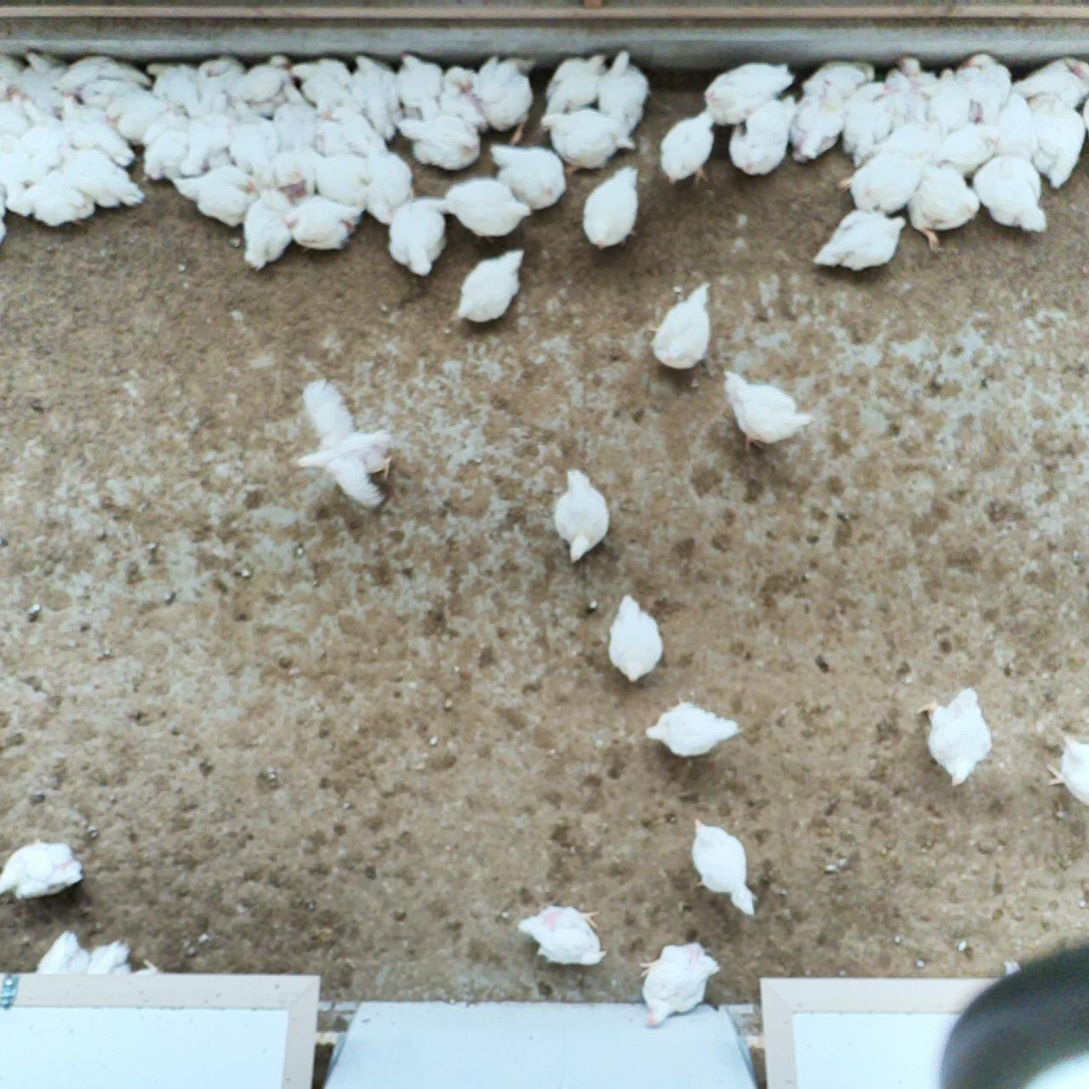chicken: (292, 378, 393, 512), (915, 687, 993, 786), (721, 370, 814, 451), (637, 942, 721, 1028), (688, 816, 759, 916), (465, 53, 540, 147), (908, 163, 983, 255), (435, 176, 533, 244), (703, 59, 799, 127), (31, 930, 170, 975), (54, 93, 138, 166), (810, 208, 907, 271), (542, 108, 634, 174), (1026, 90, 1087, 189), (62, 146, 148, 216), (730, 92, 798, 178), (650, 281, 715, 370), (552, 469, 611, 566), (451, 248, 525, 325), (487, 141, 568, 211), (176, 167, 267, 229), (514, 905, 608, 965), (977, 160, 1051, 235), (350, 53, 409, 146), (836, 152, 929, 211), (788, 81, 851, 168), (392, 111, 483, 171), (645, 700, 740, 757), (239, 184, 299, 270), (434, 60, 500, 138), (582, 168, 643, 252), (932, 118, 1008, 185), (0, 840, 87, 898), (539, 50, 613, 118), (284, 192, 363, 255), (52, 49, 155, 97), (989, 90, 1049, 172), (956, 49, 1013, 135), (9, 178, 101, 231), (313, 103, 394, 163), (232, 52, 309, 115), (134, 116, 205, 184), (285, 55, 362, 117), (184, 88, 237, 178), (227, 94, 283, 178), (386, 199, 448, 274), (599, 49, 653, 135), (611, 595, 663, 682), (17, 94, 69, 178), (799, 56, 878, 111), (657, 112, 717, 184), (840, 83, 891, 167), (185, 56, 251, 120), (367, 148, 419, 229), (886, 56, 938, 137), (103, 92, 187, 141), (310, 150, 377, 211), (1011, 53, 1089, 105), (918, 67, 975, 138), (870, 121, 951, 170), (144, 55, 210, 115), (264, 104, 332, 162), (391, 47, 443, 119), (68, 78, 162, 115), (275, 143, 325, 207), (1048, 734, 1089, 810), (26, 53, 77, 108), (0, 92, 44, 139), (0, 130, 26, 191), (0, 48, 28, 96), (0, 188, 7, 245)
